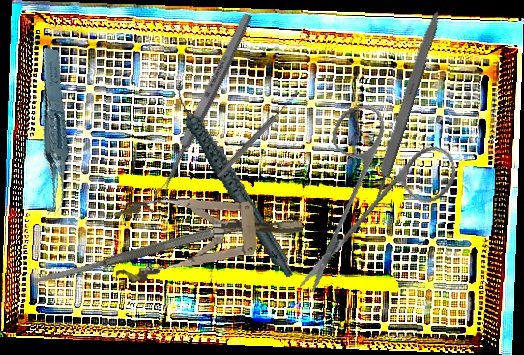Handpiece: (171, 65, 295, 294)
Iris Scissors: (266, 89, 474, 295)
Scalpel Handle: (367, 4, 445, 204)
Spatula Surgical: (31, 213, 262, 288)
Speculum: (109, 187, 307, 284)
Surgical Spoon: (151, 11, 255, 204), (215, 89, 302, 180)
Tissue Forceps: (9, 47, 94, 218)
